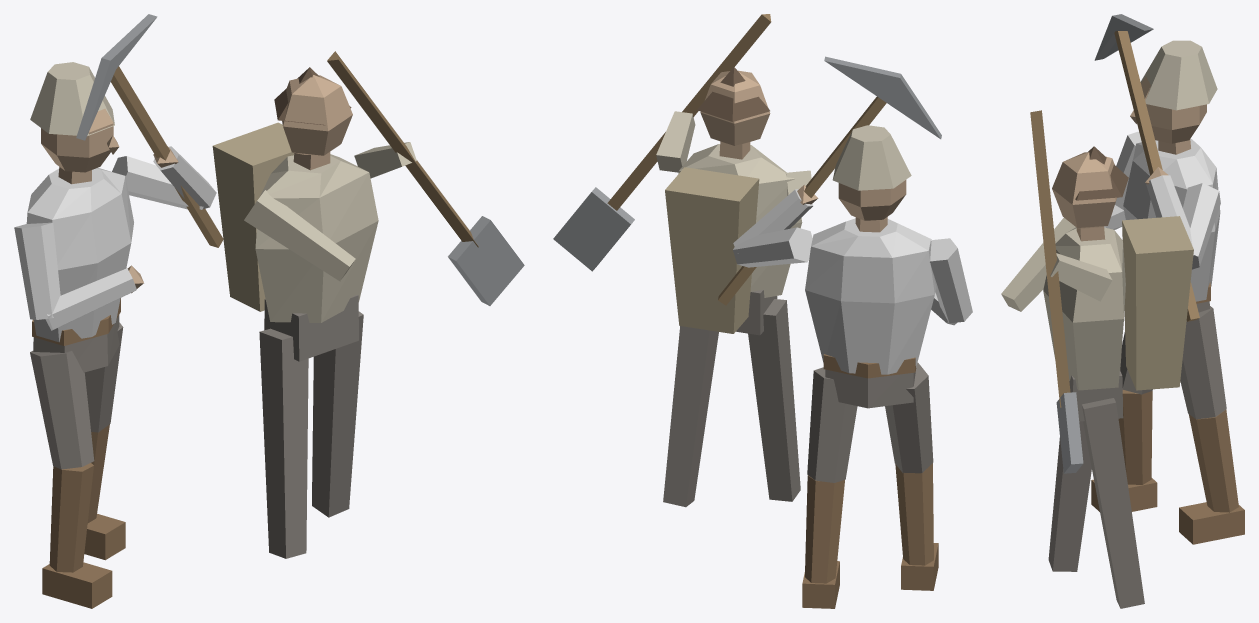
Rendered from worker.glb.
3 views of the same model, side by side, from view 1: azimuth 30°, elevation 25°; view 2: azimuth 150°, elevation 25°; view 3: azimuth 270°, elevation 25° (orthographic). The views are drawn at different scales.
Visible parts, largest first — view 1: LOD0; view 2: LOD0; view 3: LOD0.
Part boxes in pixels (x1,y1,x2,y2): LOD0: (14, 14, 524, 608); LOD0: (553, 14, 972, 608); LOD0: (1001, 14, 1244, 608).
Size of what is drawn, in the model's own units: 0.9805 by 1.1 by 0.4692.
